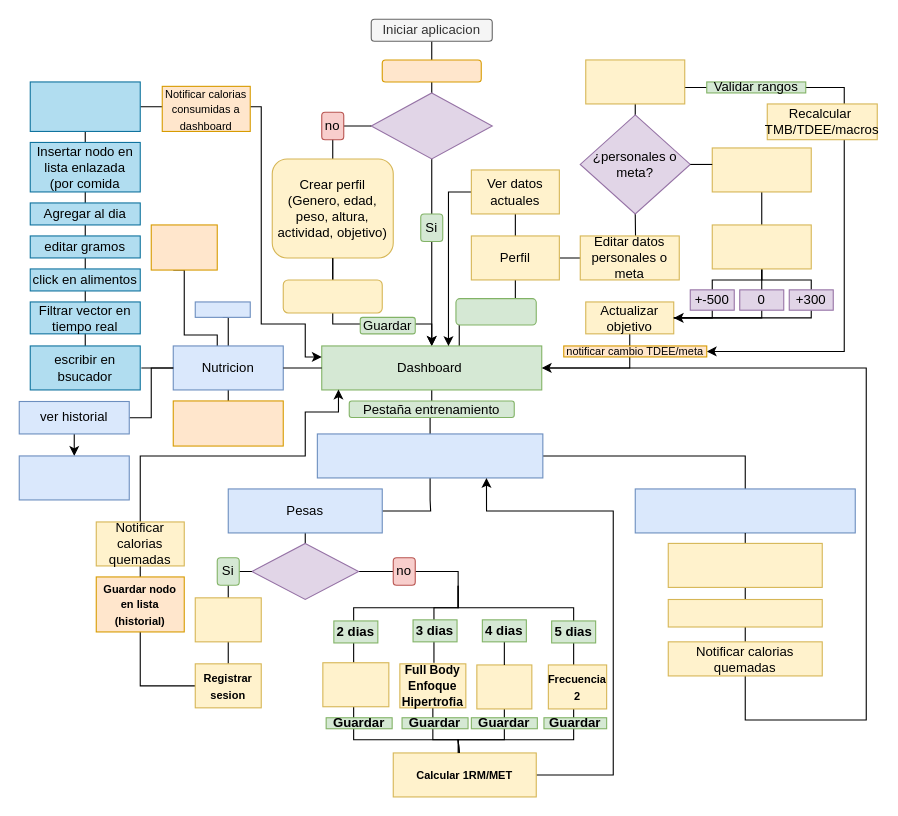
Some shapes in this 898 by 816 pixel diagram are drawn without their labels. The shapes that lost their labels are listed below. From the top down, each one's centre as x and y in pixels, then its label:
At point 431,70: "cargar food.json".
At point 635,81: "Editar datos (peso, altura, edad, actividad)".
At point 84,106: "Actualizar tabla, totales, grafico".
At point 431,125: "¿Perfil existe?".
At point 761,169: "Editar meta rapida".
At point 183,247: "Lista alimentos (JSON)".
At point 761,246: "Aplicar margen".
At point 222,309: "Graficos".
At point 332,296: "Calcular TMB/TDEE".
At point 495,311: "Pestaña perfil".
At point 227,423: "Tabla por comidas (desayuno, almuerzo, once, cena)".
At point 429,455: "Entrenamiento".
At point 73,477: "Registros anteriores".
At point 744,510: "Cardio".
At point 305,571: "¿Existe rutina?".
At point 744,564: "tiempo, distancia, pulsaciones, Tanaka, grafico lineas".
At point 227,619: "Cargar tabla de la rutina".
At point 744,612: "Registrar sesion cardio".
At point 355,684: "RUTINA FULL-BODY".
At point 504,686: "(Torso/ Pierna)".
